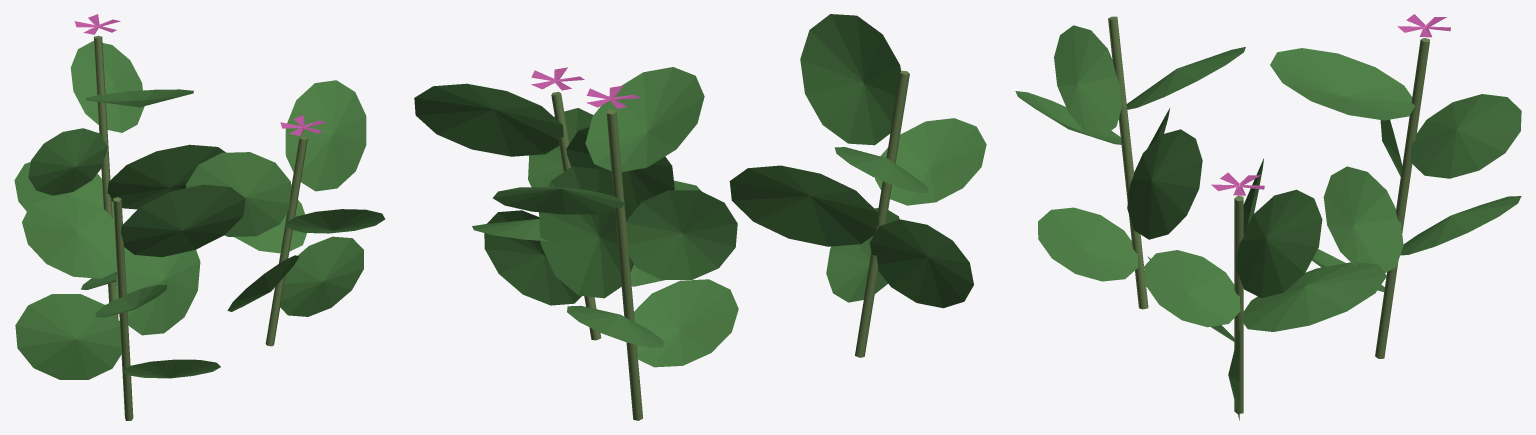
The model's file is lantana-montevidensis.glb.
3 views of the same model, side by side, from view 1: azimuth 30°, elevation 25°; view 2: azimuth 150°, elevation 25°; view 3: azimuth 270°, elevation 25° (orthographic). The views are drawn at different scales.
Parts seen in each view (by area): view 1: Species leaves, Species stems, Species flowers / bracts; view 2: Species leaves, Species stems, Species flowers / bracts; view 3: Species leaves, Species stems, Species flowers / bracts.
Boxes of the visible parts, x1,y1,x2,y2 form: Species leaves: [14, 41, 385, 379]; Species stems: [93, 35, 307, 420]; Species flowers / bracts: [74, 14, 326, 135]; Species leaves: [414, 14, 986, 367]; Species stems: [551, 70, 909, 420]; Species flowers / bracts: [531, 67, 639, 108]; Species leaves: [1015, 25, 1521, 420]; Species stems: [1108, 16, 1429, 413]; Species flowers / bracts: [1211, 14, 1450, 195].
Bounding box in the file's own units: 0.424 × 0.2821 × 0.3872.
